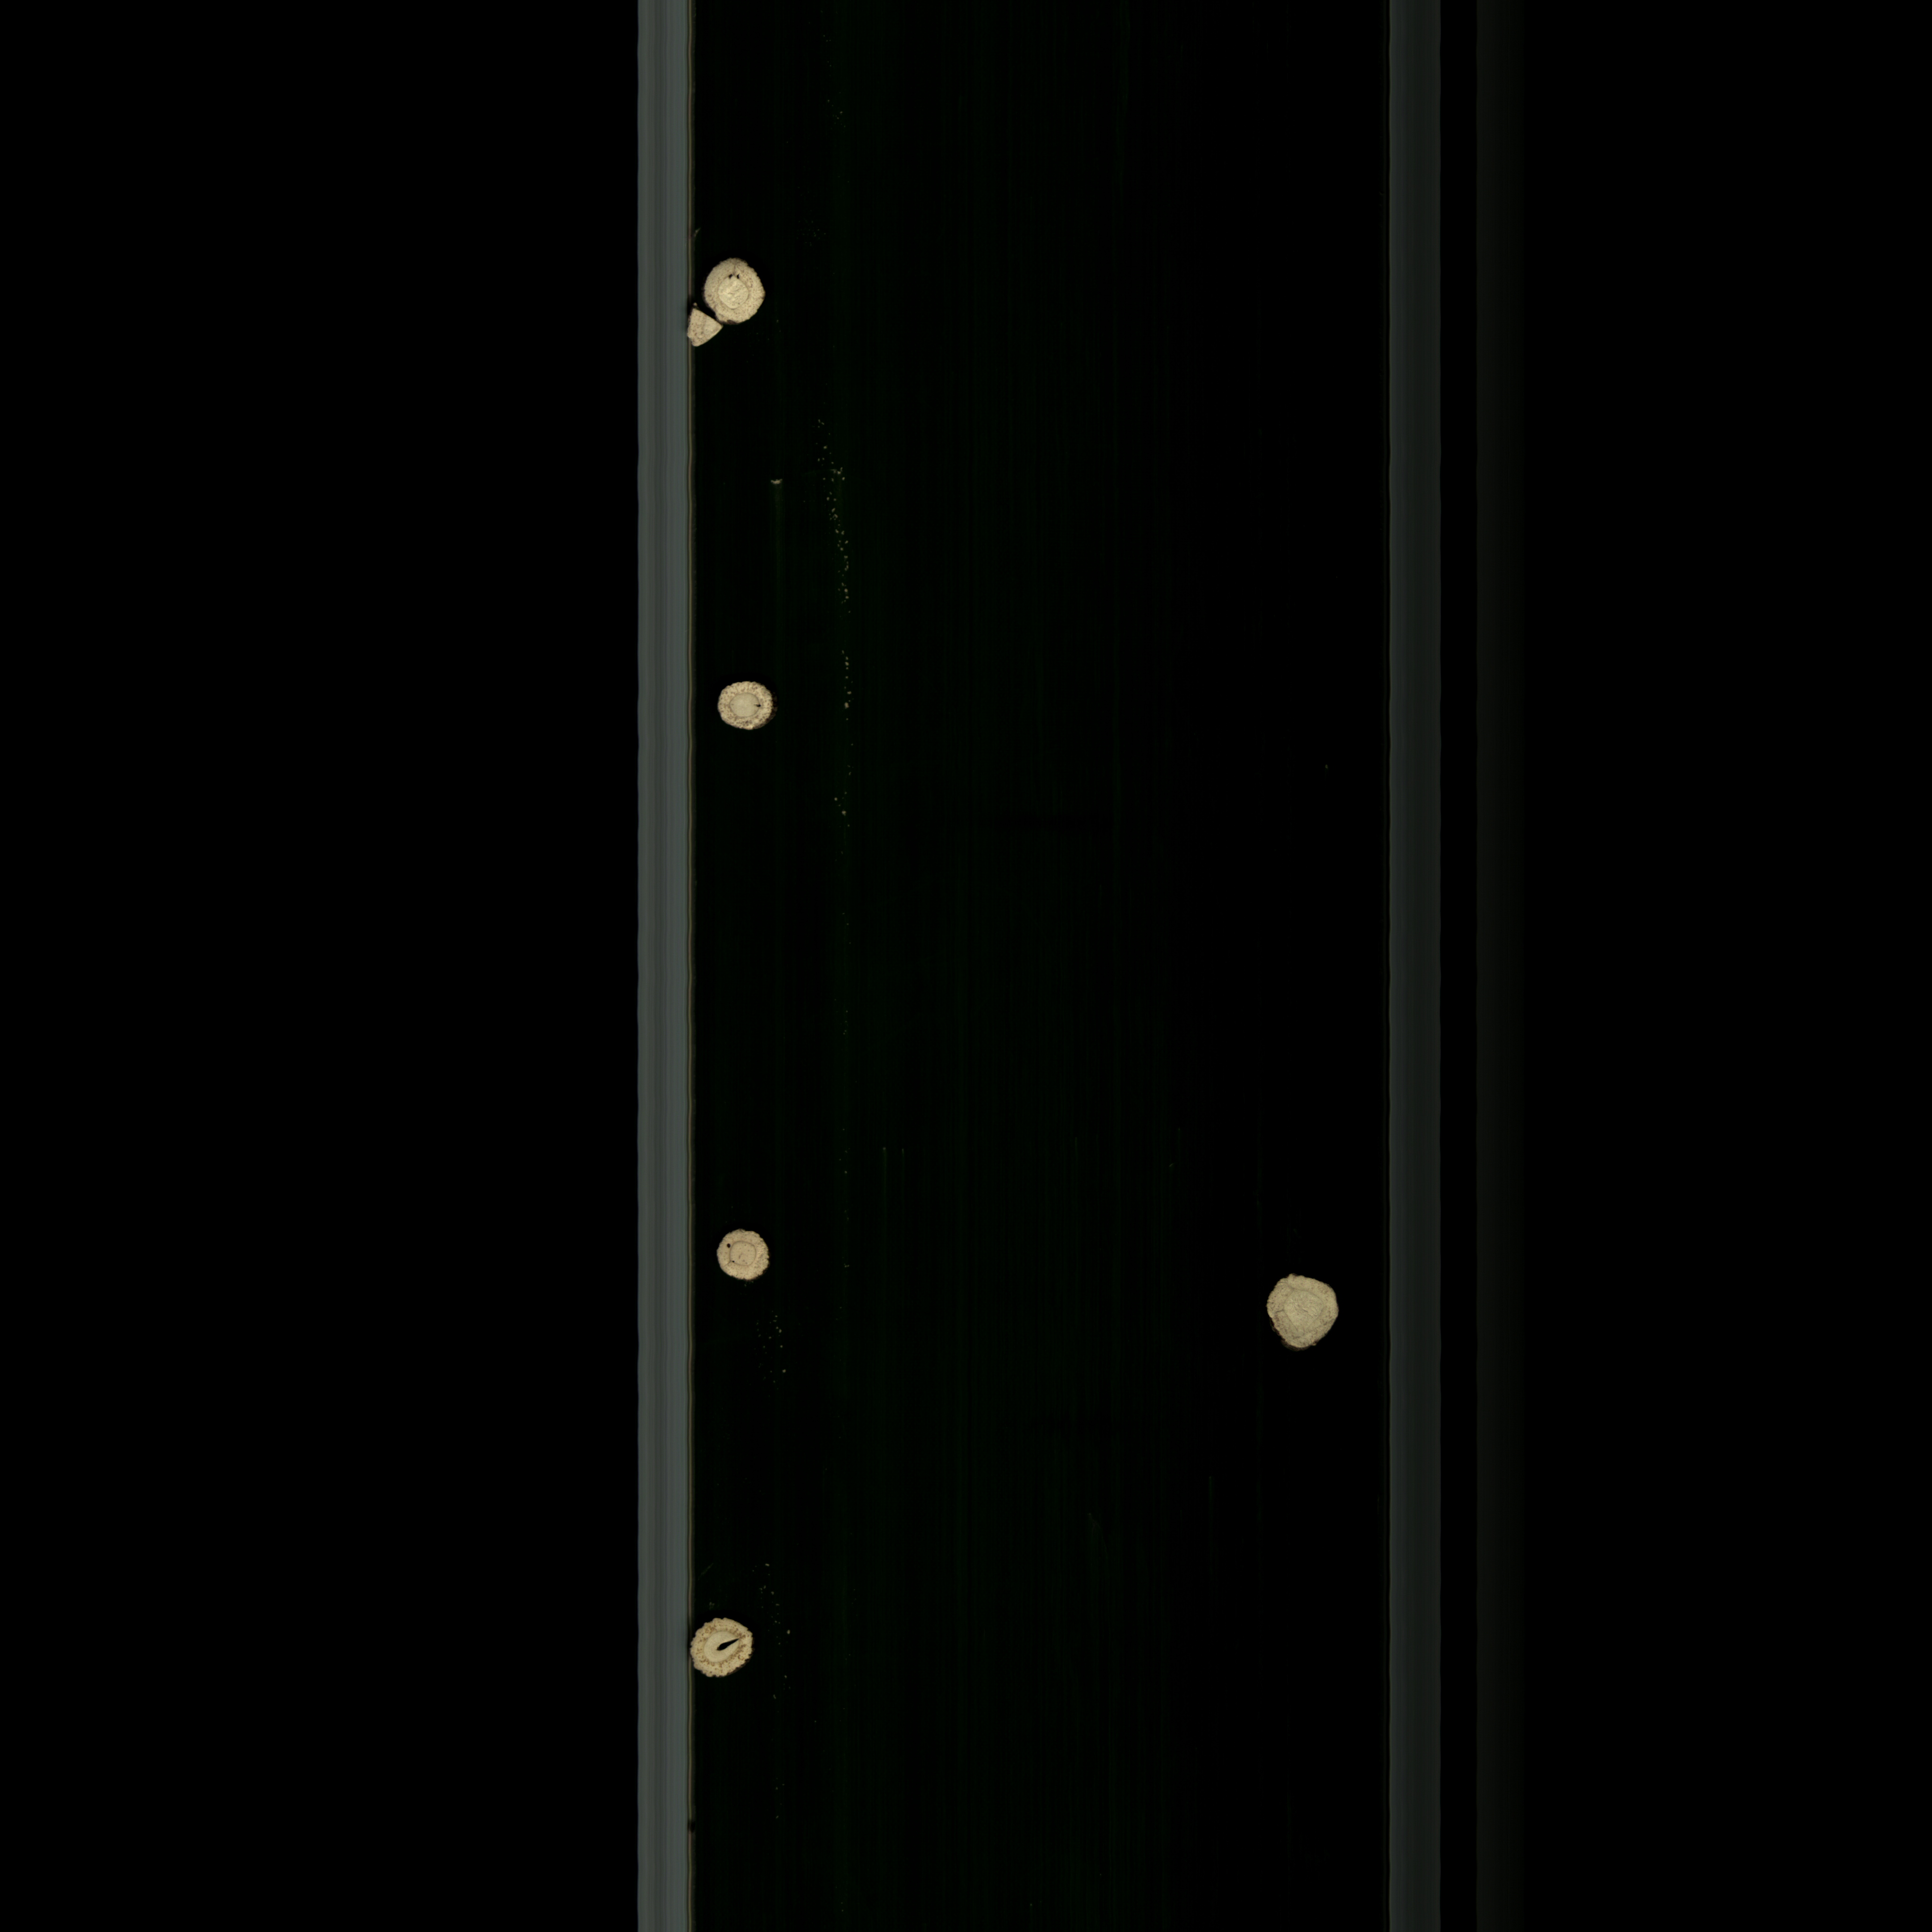dreg: (685, 304, 722, 361)
hole: (686, 1608, 757, 1690), (701, 253, 773, 327), (711, 1221, 775, 1286), (715, 676, 778, 734)
